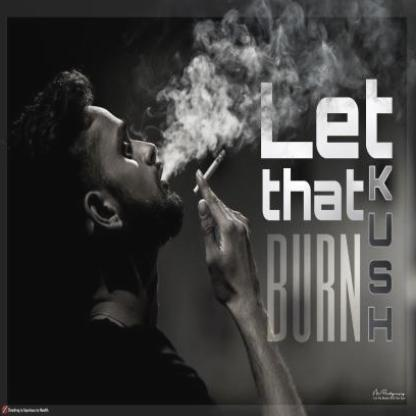cigarette: (193, 147, 226, 195)
person: (16, 74, 196, 405)
smoke: (160, 36, 262, 176)
